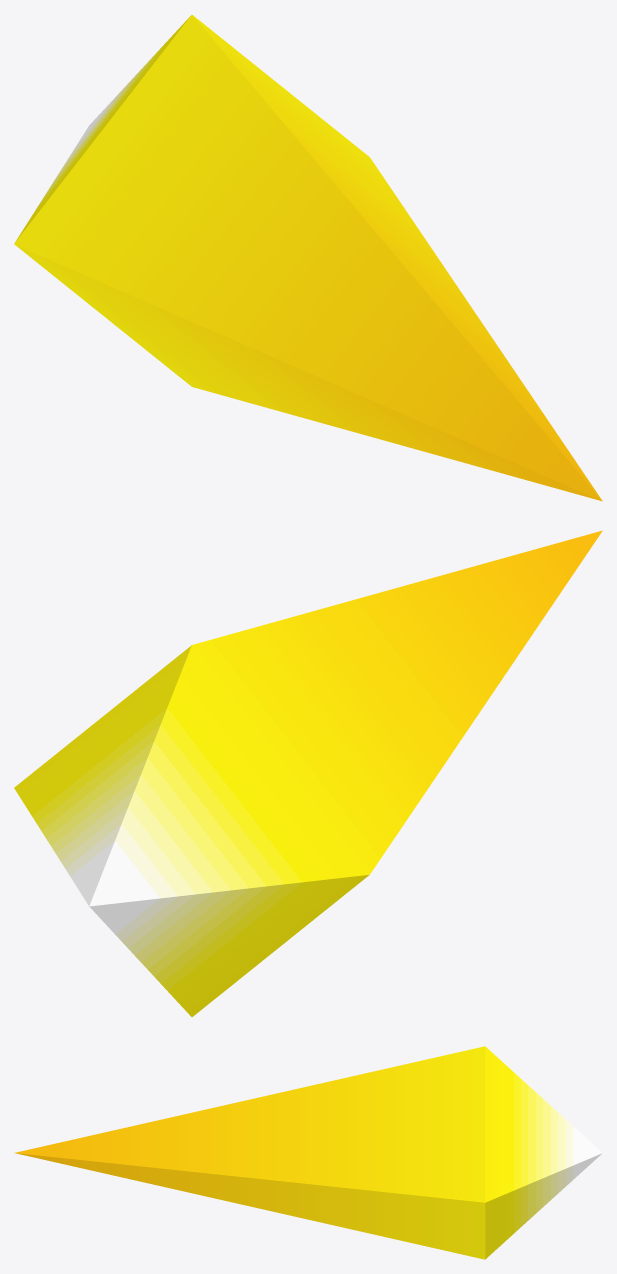
The model's file is Yellow.glb.
3 views of the same model, one above another, from view 1: azimuth 30°, elevation 25°; view 2: azimuth 150°, elevation 25°; view 3: azimuth 270°, elevation 25° (orthographic). The views are drawn at different scales.
Parts seen in each view (by area): view 1: Yellow; view 2: Yellow; view 3: Yellow.
Boxes of the visible parts, left/top/right/bottom form: Yellow: left=14, top=15, right=602, bottom=501; Yellow: left=14, top=530, right=602, bottom=1016; Yellow: left=15, top=1046, right=602, bottom=1259.
Bounding box in the file's own units: 2 × 2 × 5.
Materials: 1 (1 with a texture image).
